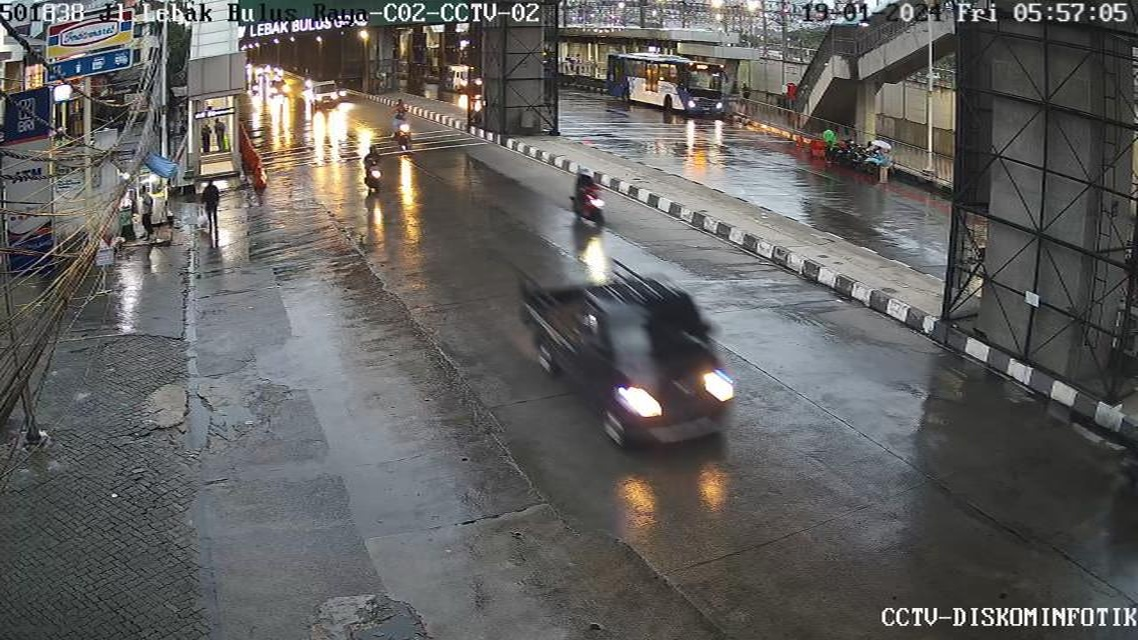Gerobak: (135, 166, 171, 227)
